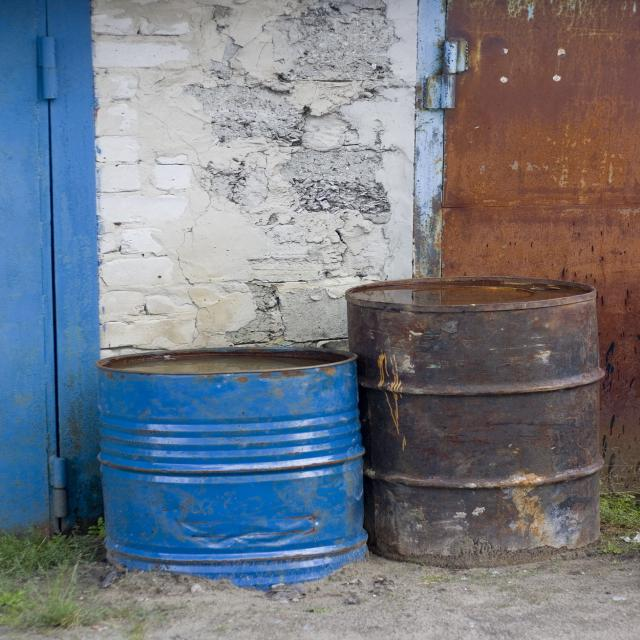metal: (102, 301, 592, 560)
